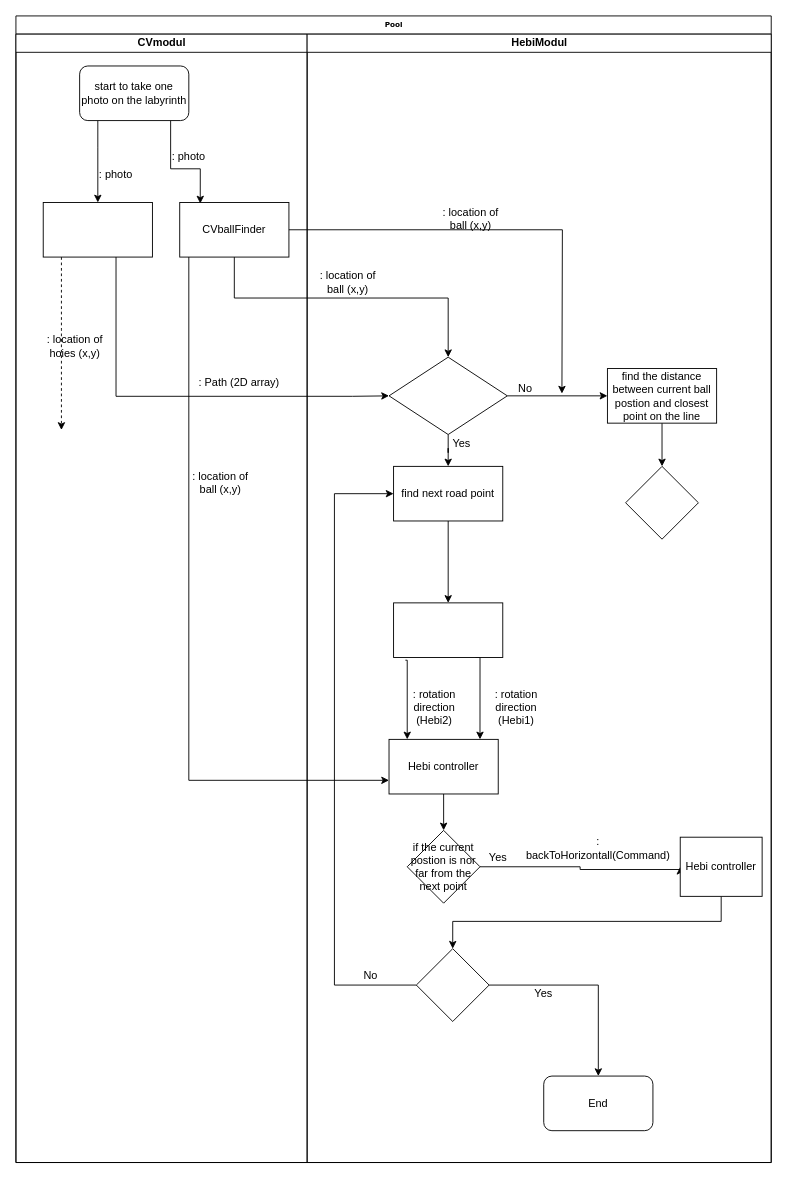
This 787x1178 diagram has some shape labels left out. The centre of each missing label's shape, as x and y in pixels:
compare the next point and current point: (x=448, y=629)
CVpathFinder: (x=97, y=229)
if the ball closed to the line: (x=447, y=395)
if the distance larger than threshold?: (x=661, y=502)
if the next point is end point: (x=452, y=984)
